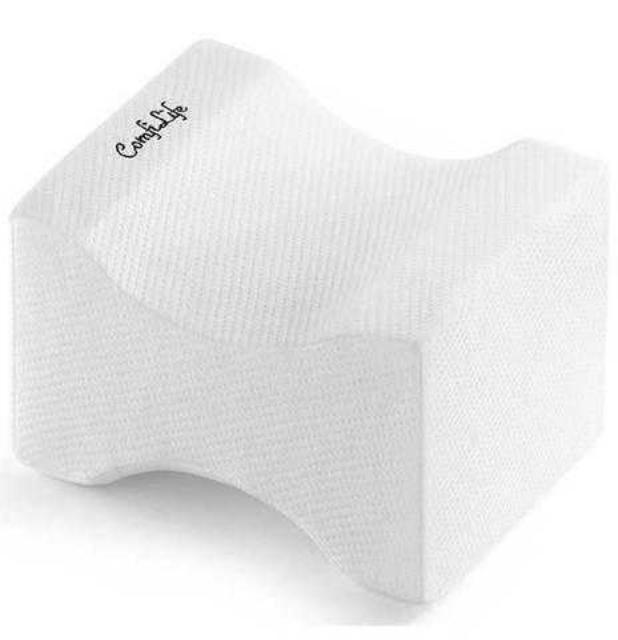pillow: (7, 35, 612, 605)
